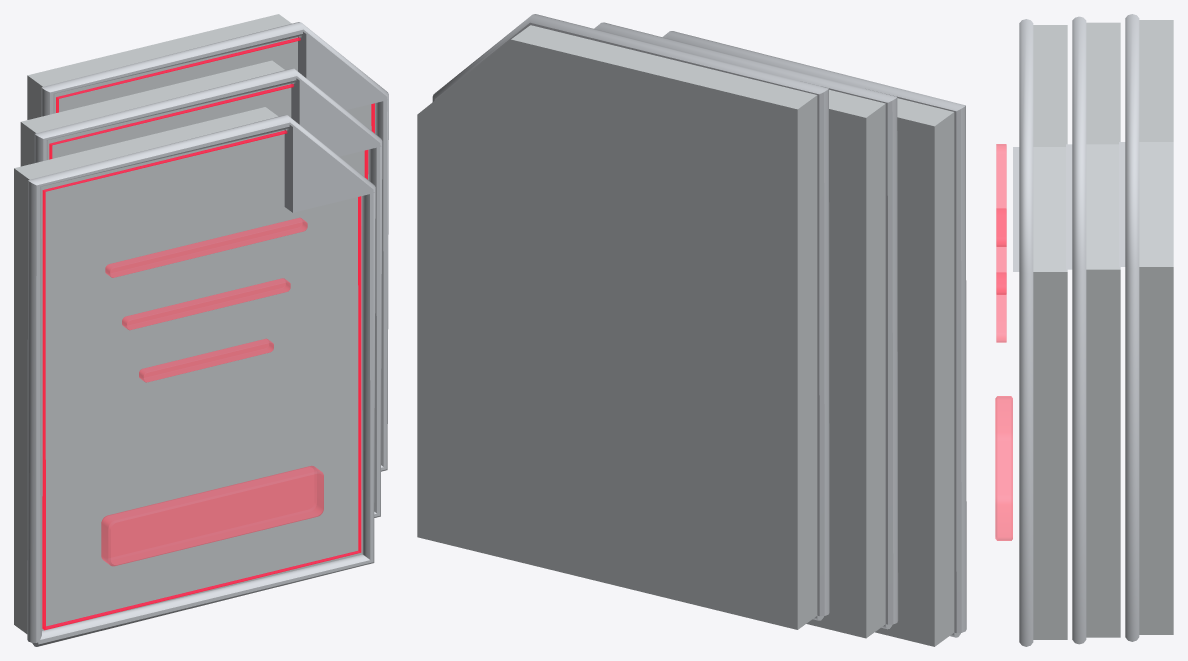
File: 16-document.glb
3 views of the same model, side by side, from view 1: azimuth 30°, elevation 25°; view 2: azimuth 150°, elevation 25°; view 3: azimuth 270°, elevation 25° (orthographic). The views are drawn at different scales.
Parts seen in each view (by area): view 1: BC clear optical glass, BC satin silver metal, BC ruby optical glass, BC neon red glass edge; view 2: BC clear optical glass, BC satin silver metal; view 3: BC clear optical glass, BC satin silver metal, BC ruby optical glass.
Part boxes in pixels (bbox=[...]): BC clear optical glass: bbox=[14, 14, 371, 633]; BC satin silver metal: bbox=[27, 22, 388, 646]; BC ruby optical glass: bbox=[101, 217, 323, 566]; BC neon red glass edge: bbox=[42, 37, 374, 630]; BC clear optical glass: bbox=[417, 25, 954, 646]; BC satin silver metal: bbox=[432, 14, 966, 637]; BC clear optical glass: bbox=[1033, 20, 1173, 639]; BC satin silver metal: bbox=[1013, 14, 1139, 646]; BC ruby optical glass: bbox=[995, 144, 1012, 540].
Bounding box in the file's own units: 1.61 × 1.89 × 0.605.
